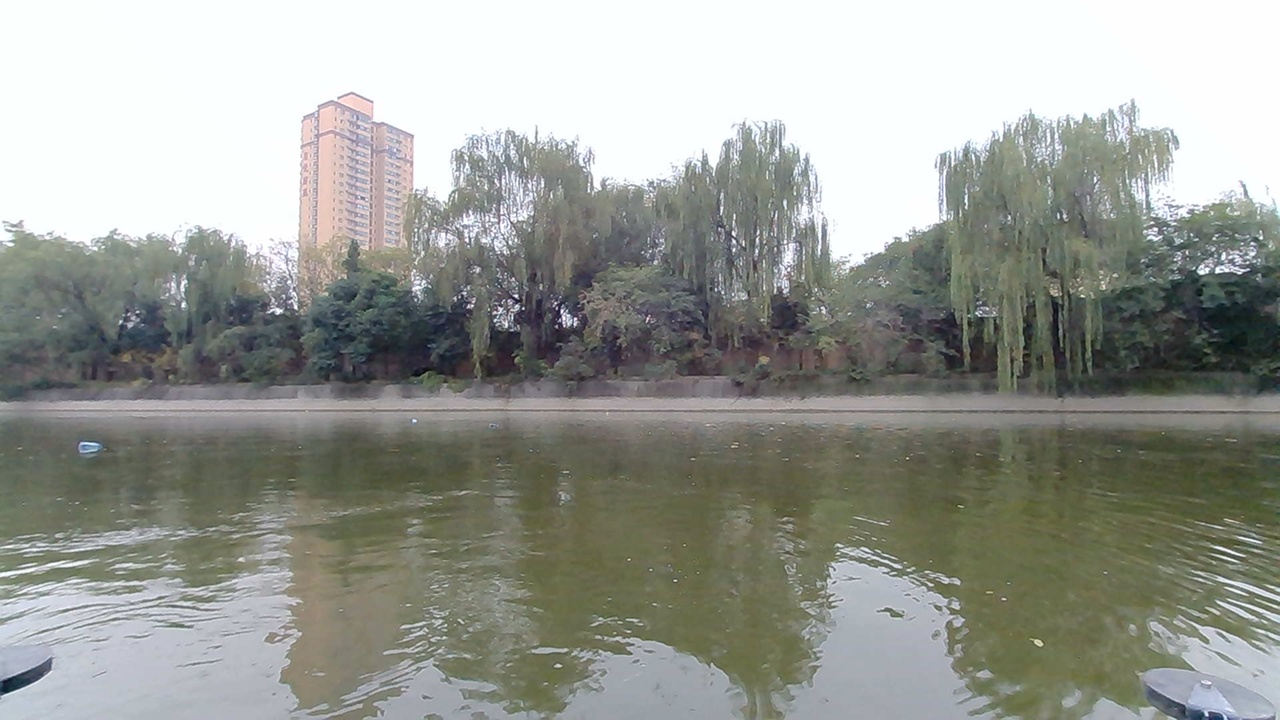bottle: (63, 427, 112, 461)
